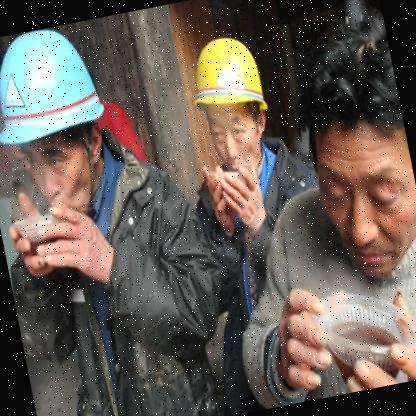capacete: (0, 19, 124, 210), (181, 27, 280, 170)
sem_capacete: (277, 11, 415, 294)
sem_colete_refletivo: (0, 174, 235, 415), (182, 134, 352, 414), (259, 159, 415, 402)
